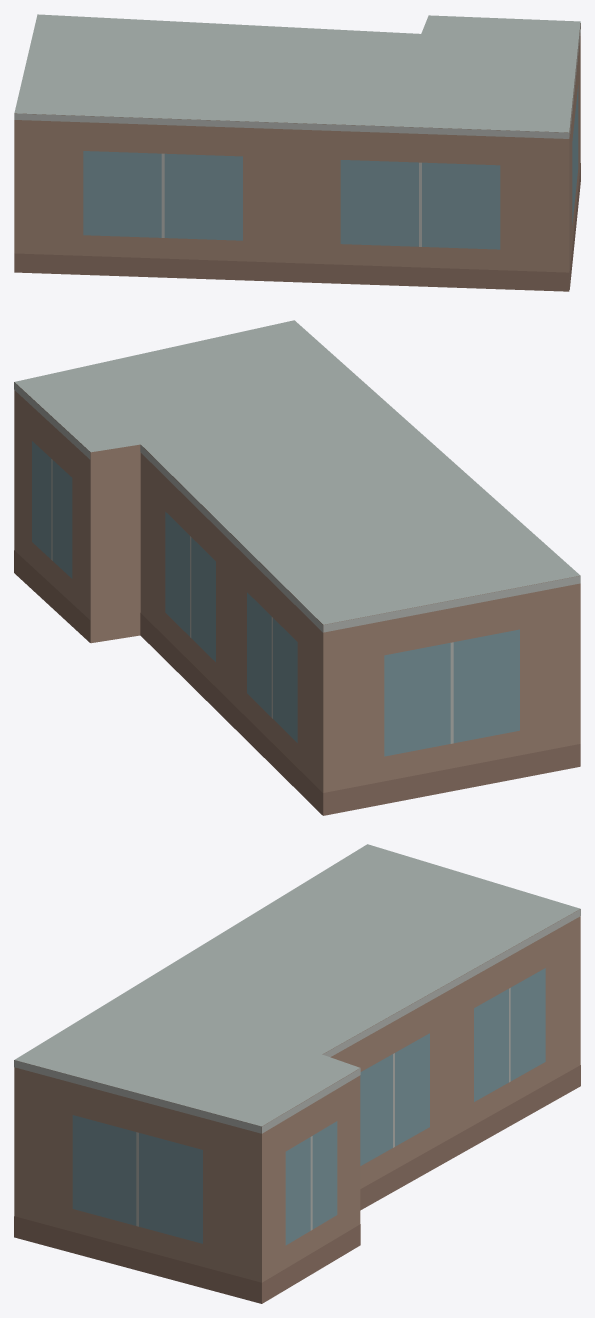
File: survey-upis-32663312.glb
3 renders of one model, top to bottom at view 1: azimuth 30°, elevation 25°; view 2: azimuth 150°, elevation 25°; view 3: azimuth 270°, elevation 25°, orthographic. The views are drawn at different scales.
Visible parts, largest first — view 1: survey-upis-32663312.tmp; view 2: survey-upis-32663312.tmp; view 3: survey-upis-32663312.tmp.
Boxes of the visible parts, x1,y1,x2,y2 form: survey-upis-32663312.tmp: (14,14,580,291); survey-upis-32663312.tmp: (14,320,580,815); survey-upis-32663312.tmp: (14,844,580,1303).
Bounding box in the file's own units: 10.43 × 3.05 × 8.84.
